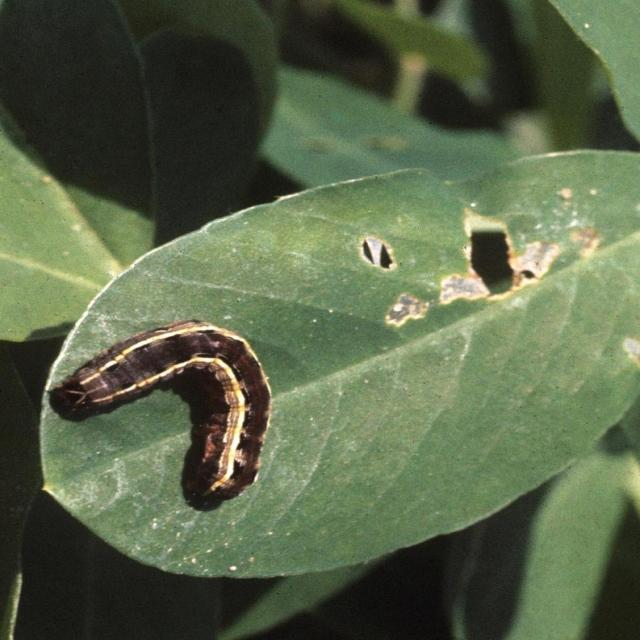army worm: (56, 317, 273, 510)
